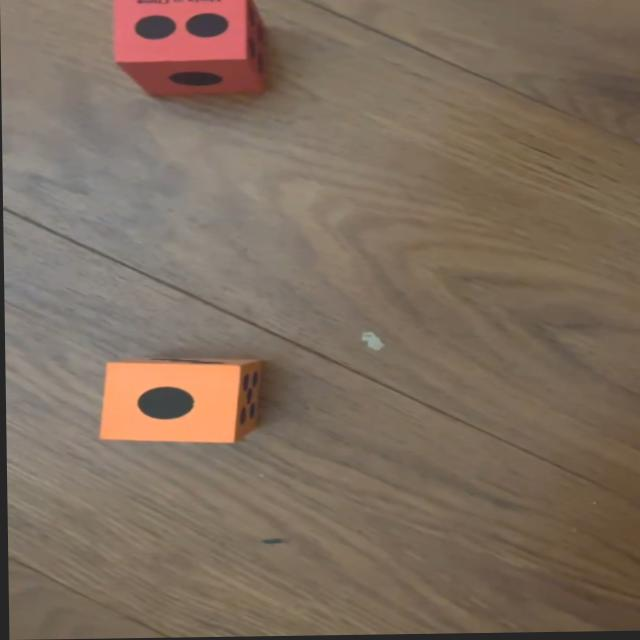red_block: (109, 0, 264, 96)
